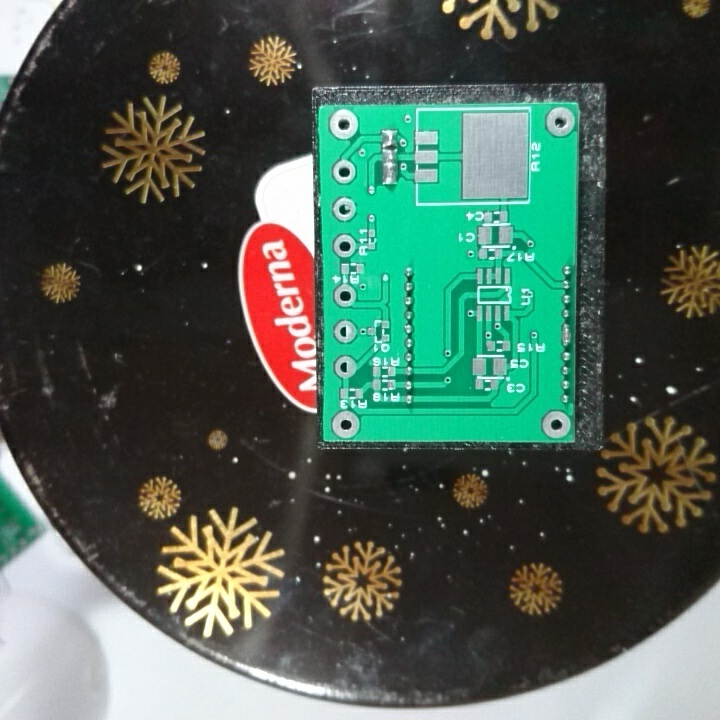F: (328, 106, 360, 141), (544, 106, 577, 139), (329, 408, 363, 440), (540, 408, 573, 440), (329, 157, 359, 186), (331, 195, 360, 225), (331, 232, 359, 260), (331, 280, 358, 308), (331, 318, 359, 345), (333, 353, 358, 380)
P: (378, 148, 400, 187), (559, 320, 574, 348)
